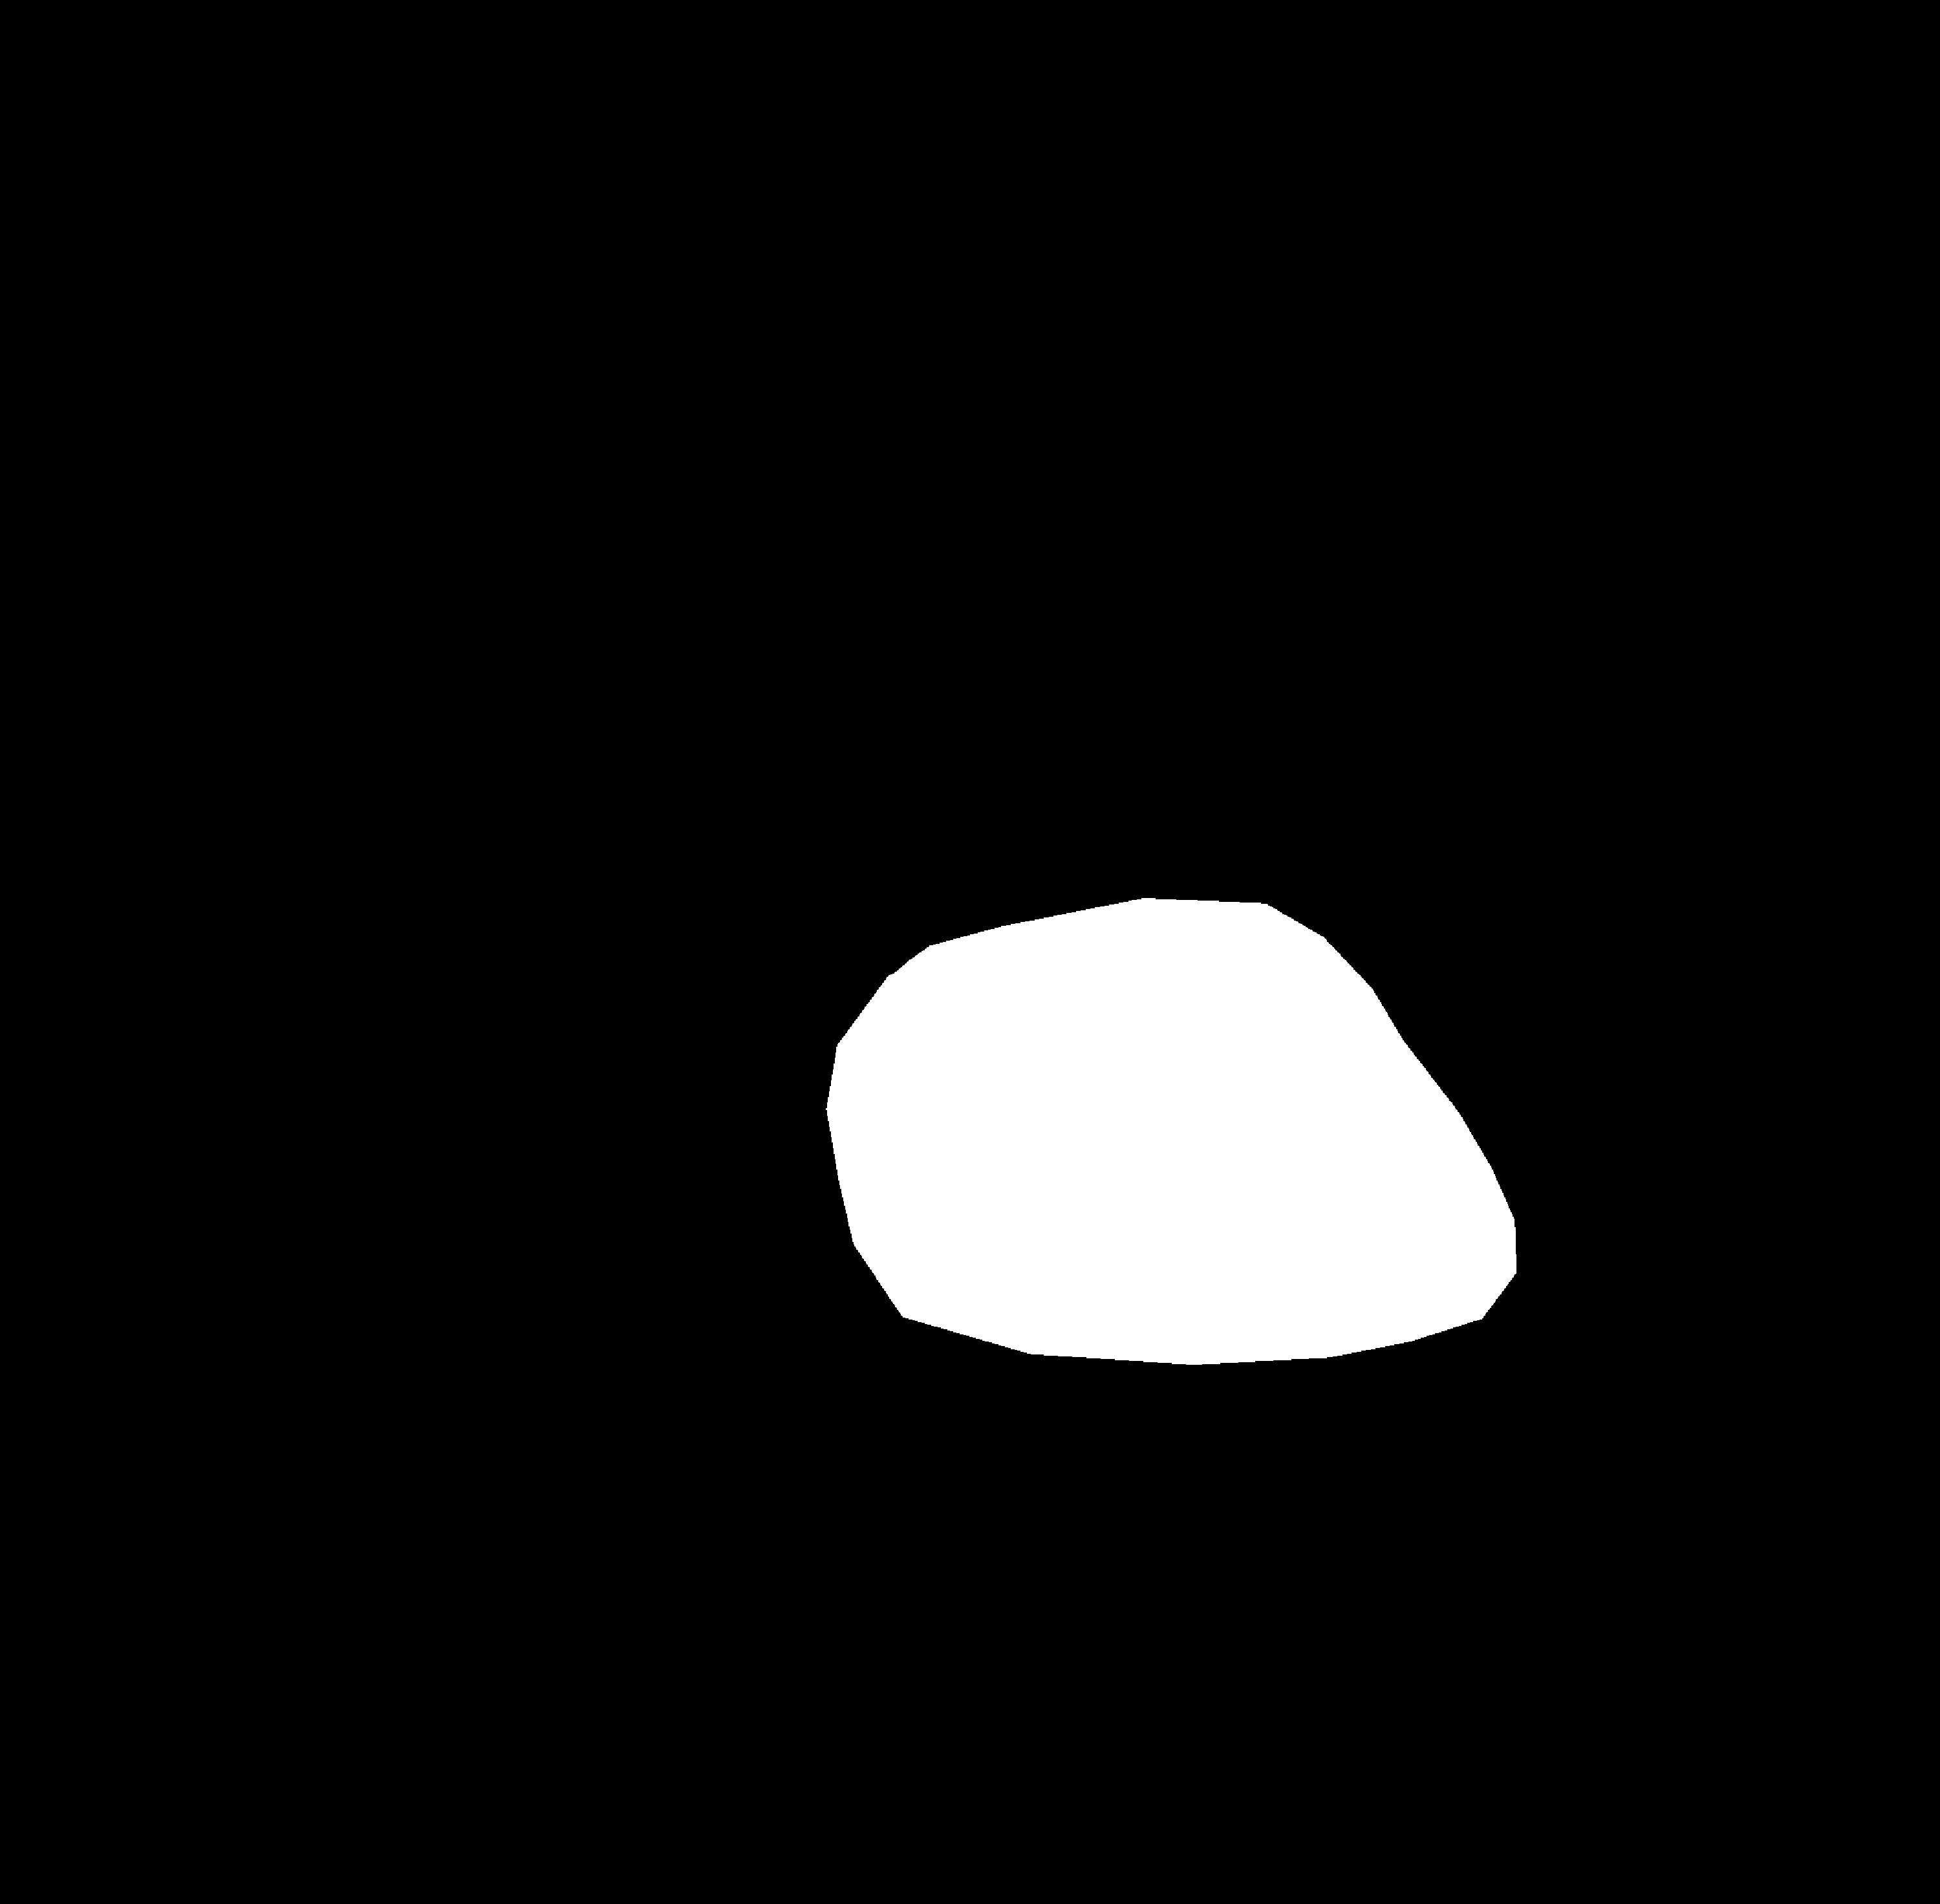heart: (822, 966, 1506, 1384)
left_lung: (354, 330, 989, 1431)
right_lung: (1141, 295, 1806, 1506)
